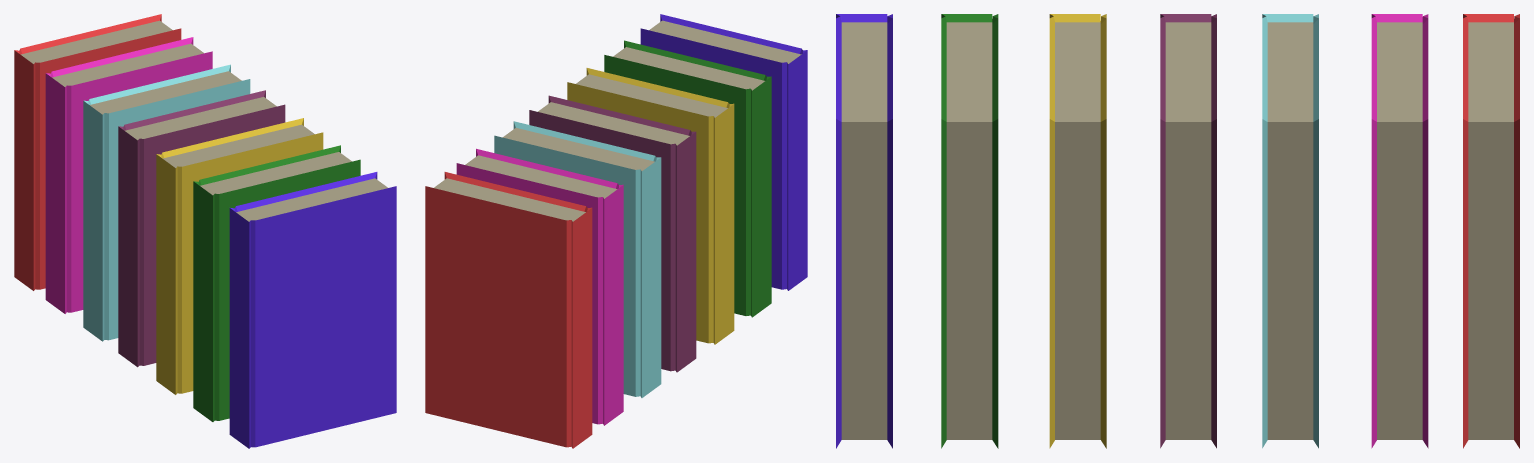
Rendered from book_alperen.glb.
3 views of the same model, side by side, from view 1: azimuth 30°, elevation 25°; view 2: azimuth 150°, elevation 25°; view 3: azimuth 270°, elevation 25° (orthographic). The views are drawn at different scales.
Visible parts, largest first — view 1: Book1, Book4, Book6, Book3, Book2, Book5, Book7; view 2: Book7, Book3, Book5, Book2, Book1, Book4, Book6; view 3: Book3, Book2, Book6, Book1, Book5, Book4, Book7.
Boxes of the visible parts, x1=… form: Book1: x1=229, y1=172, x2=396, y2=448; Book4: x1=118, y1=90, x2=285, y2=367; Book6: x1=45, y1=37, x2=212, y2=313; Book3: x1=156, y1=118, x2=323, y2=394; Book2: x1=193, y1=145, x2=360, y2=421; Book5: x1=83, y1=64, x2=250, y2=341; Book7: x1=14, y1=14, x2=181, y2=290; Book7: x1=425, y1=172, x2=592, y2=448; Book3: x1=567, y1=68, x2=734, y2=344; Book5: x1=494, y1=121, x2=661, y2=397; Book2: x1=604, y1=40, x2=771, y2=317; Book1: x1=640, y1=14, x2=807, y2=290; Book4: x1=529, y1=95, x2=696, y2=372; Book6: x1=456, y1=148, x2=623, y2=425; Book3: x1=1049, y1=14, x2=1106, y2=448; Book2: x1=941, y1=14, x2=998, y2=448; Book6: x1=1371, y1=14, x2=1428, y2=448; Book1: x1=836, y1=14, x2=892, y2=448; Book5: x1=1262, y1=14, x2=1318, y2=448; Book4: x1=1160, y1=14, x2=1216, y2=448; Book7: x1=1463, y1=14, x2=1519, y2=448.
Size of the model in its own units: 1.11 by 1.63 by 3.06.
